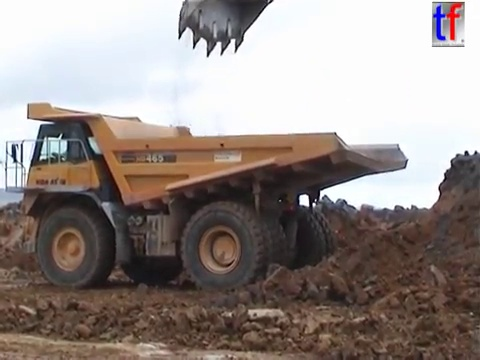excavator: (173, 1, 276, 60)
truck: (1, 100, 412, 295)
